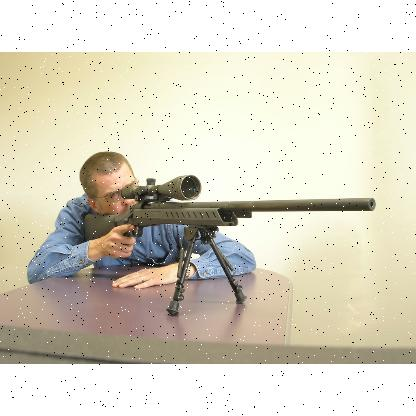gun: (83, 174, 374, 316)
